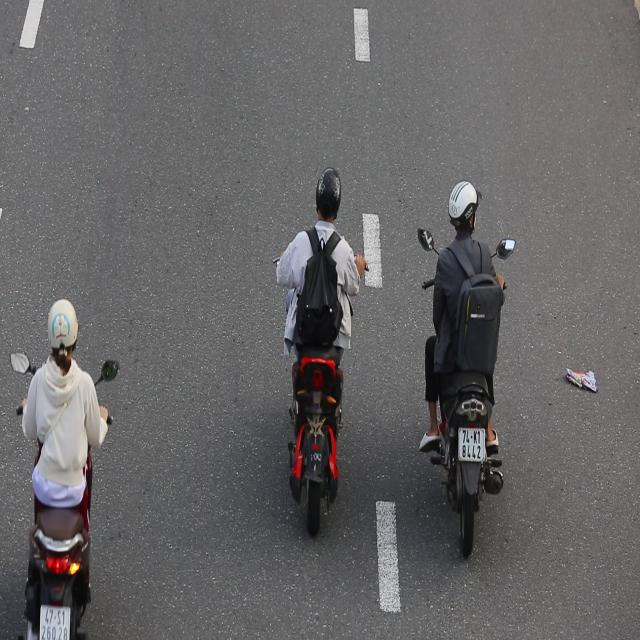motorbike: (417, 175, 520, 562), (267, 162, 373, 537)
